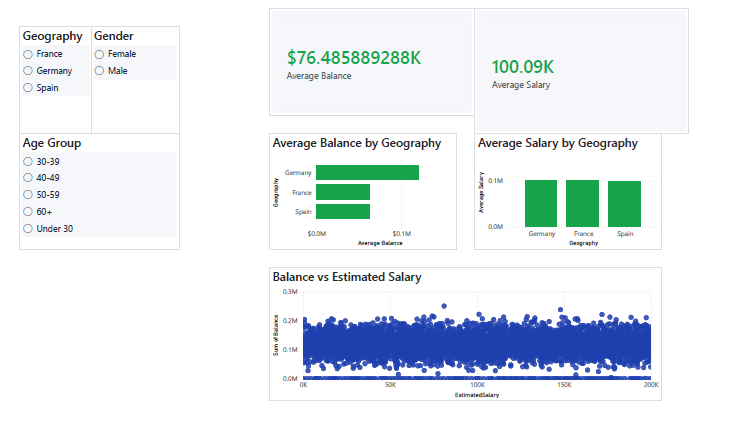

What the dashboard file says about the page in this screenshot:
{"tool":"powerbi","page":{"name":"Financial Insights","canvas":[1280,720],"ordinal":3},"visuals":[{"type":"cardVisual","fields":{"Data":["BankCustomers.Average Balance"]},"box":[464,0,368,192],"z":0},{"type":"cardVisual","fields":{"Data":["BankCustomers.Average Salary"]},"box":[832,0,384,224],"z":1000},{"type":"clusteredBarChart","fields":{"Category":["BankCustomers.Geography"],"Y":["BankCustomers.Average Balance"]},"box":[464,224,336,208],"z":2000},{"type":"clusteredColumnChart","fields":{"Y":["BankCustomers.Average Salary"],"Category":["BankCustomers.Geography"]},"box":[832,224,336,208],"z":3000},{"type":"scatterChart","title":"Balance vs Estimated Salary","fields":{"Y":["Sum(BankCustomers.Balance)"],"X":["BankCustomers.EstimatedSalary"]},"box":[464,464,704,240],"z":4000},{"type":"listSlicer","fields":{"Values":["BankCustomers.Geography"]},"box":[16,32,288,288],"z":5000},{"type":"listSlicer","fields":{"Values":["BankCustomers.Gender"]},"box":[144,32,160,288],"z":6000},{"type":"listSlicer","fields":{"Values":["BankCustomers.Age Group"]},"box":[16,224,288,208],"z":7000}]}

Visuals, with their boxes in screenshot pixels (x1, y1, x2, y2), scaled from the page's 1280x720 canvas onto the 730x421 screenshot:
cardVisual - BankCustomers.Average Balance: left=265, top=0, right=474, bottom=112
cardVisual - BankCustomers.Average Salary: left=474, top=0, right=694, bottom=131
clusteredBarChart - BankCustomers.Geography x BankCustomers.Average Balance: left=265, top=131, right=456, bottom=253
clusteredColumnChart - BankCustomers.Average Salary x BankCustomers.Geography: left=474, top=131, right=666, bottom=253
"Balance vs Estimated Salary" scatterChart: left=265, top=271, right=666, bottom=412
listSlicer - BankCustomers.Geography: left=9, top=19, right=173, bottom=187
listSlicer - BankCustomers.Gender: left=82, top=19, right=173, bottom=187
listSlicer - BankCustomers.Age Group: left=9, top=131, right=173, bottom=253
